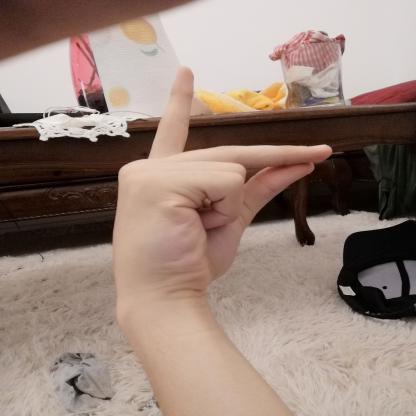TAA: (92, 57, 348, 318)
